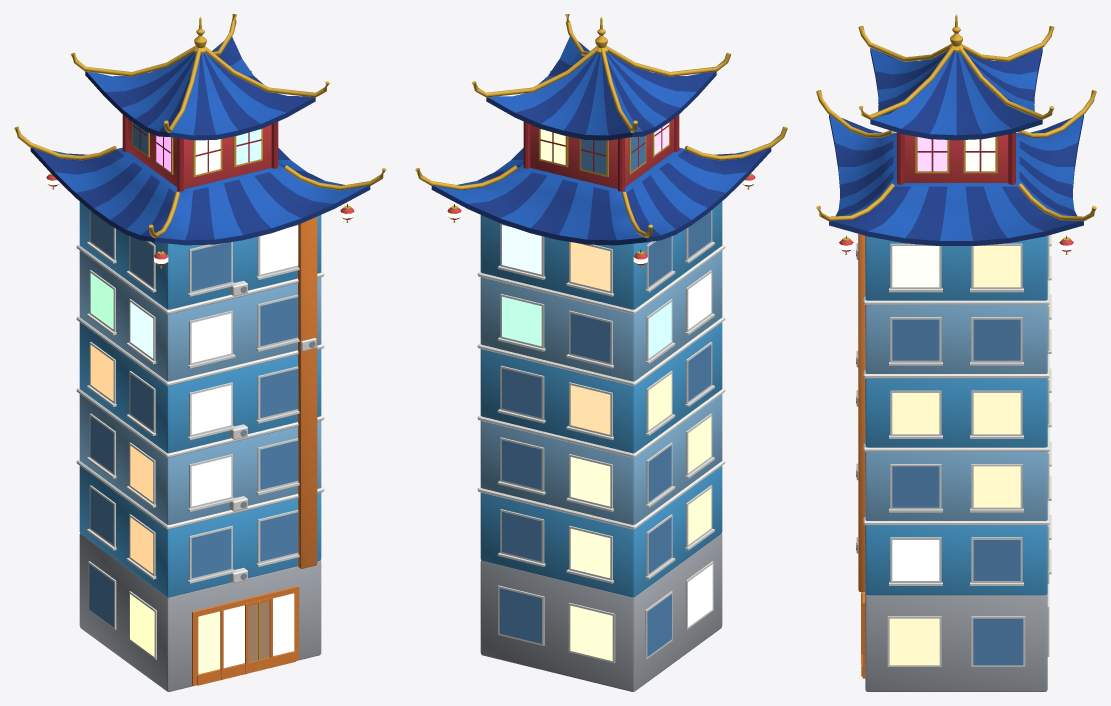
Rendered from predio_estreito_pagode_azul.glb.
3 renders of one model, left to right at view 1: azimuth 30°, elevation 25°; view 2: azimuth 150°, elevation 25°; view 3: azimuth 270°, elevation 25°, orthographic. The views are drawn at different scales.
Visible parts, largest first — view 1: predio_estreito_pagode_azul; view 2: predio_estreito_pagode_azul; view 3: predio_estreito_pagode_azul.
Boxes of the visible parts, box(x1,y1,x2,y2) form: predio_estreito_pagode_azul: box(14, 14, 386, 691); predio_estreito_pagode_azul: box(415, 14, 787, 691); predio_estreito_pagode_azul: box(816, 14, 1096, 691).
Bounding box in the file's own units: 11.06 × 27.9 × 11.08.
9 materials, 1 textured.
